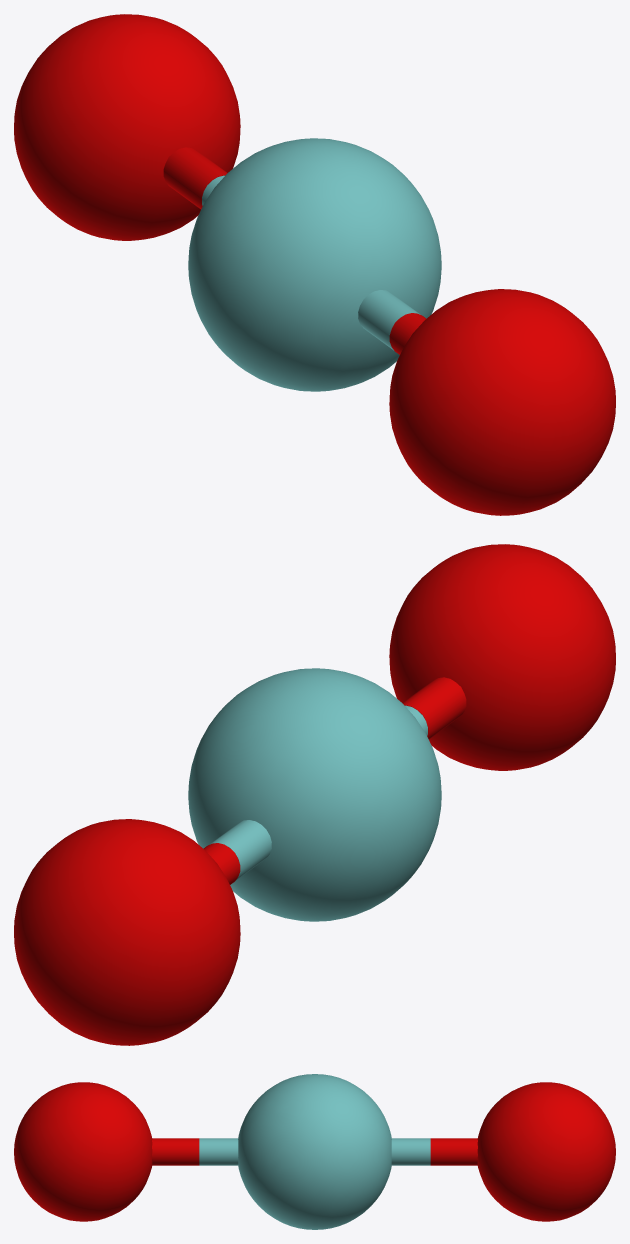
3 renders of one model, top to bottom at view 1: azimuth 30°, elevation 25°; view 2: azimuth 150°, elevation 25°; view 3: azimuth 270°, elevation 25°, orthographic. The views are drawn at different scales.
Visible parts, largest first — view 1: CO2.001; view 2: CO2.001; view 3: CO2.001.
Boxes of the visible parts, x1=… form: CO2.001: x1=14, y1=14, x2=615, y2=515; CO2.001: x1=14, y1=544, x2=615, y2=1045; CO2.001: x1=14, y1=1074, x2=615, y2=1229.
Size of the model in its own units: 0.5043 by 0.5043 by 1.94.
